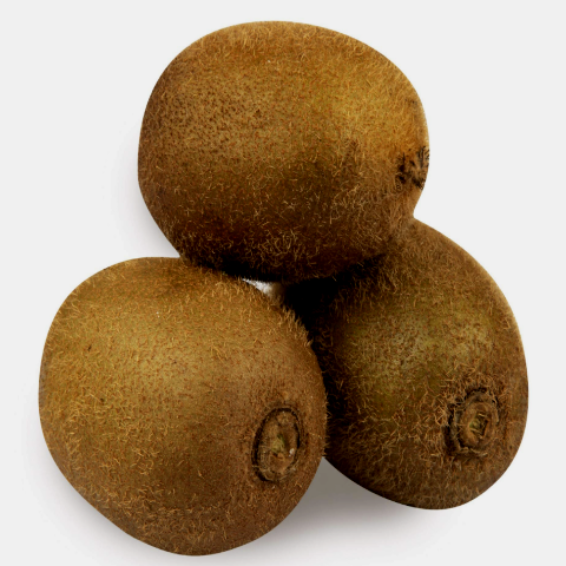kiwi: (21, 235, 356, 565), (109, 6, 434, 290), (257, 219, 517, 543)
